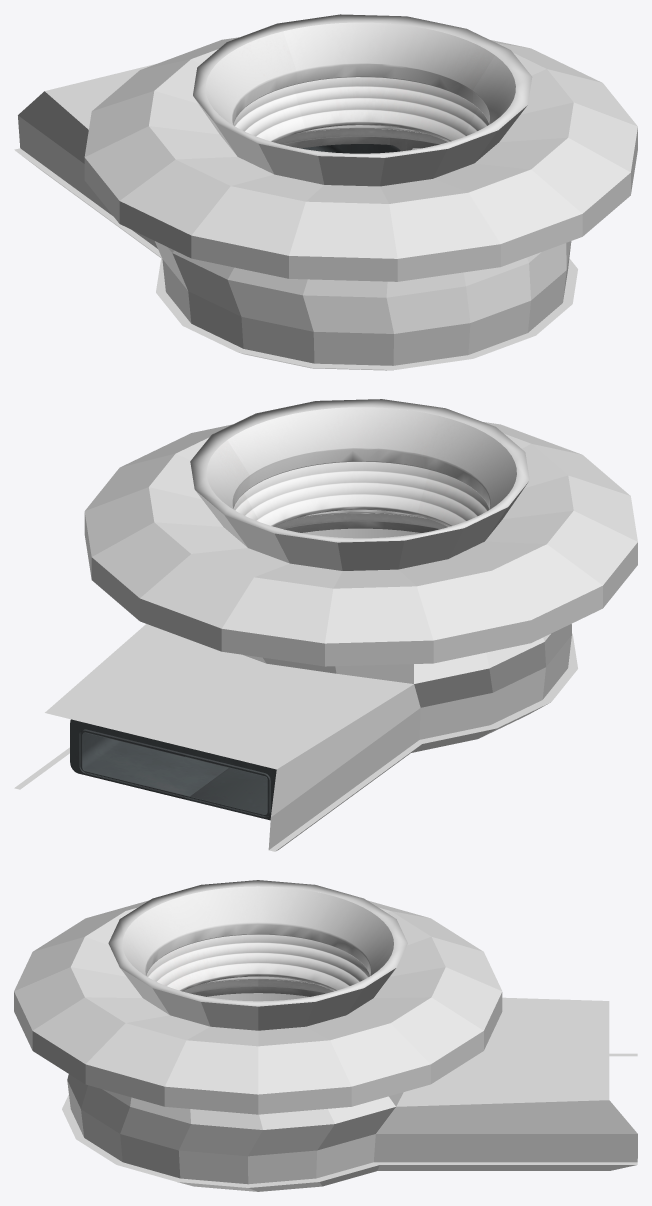
The picture shows the model from 3 angles, top to bottom: view 1: azimuth 30°, elevation 25°; view 2: azimuth 150°, elevation 25°; view 3: azimuth 270°, elevation 25°; orthographic projection. The views are drawn at different scales.
Parts seen in each view (by area): view 1: Shadowbox, Part_K, Part_F_01, Part_F_02; view 2: Shadowbox, Part_K, Part_F_02, Part_F_01, Part_Window_glass; view 3: Shadowbox, Part_K, Part_F_01, Part_Window_glass.
Boxes of the visible parts, x1,y1,x2,y2 form: Shadowbox: [14, 14, 637, 370]; Part_K: [205, 22, 515, 142]; Part_F_01: [274, 128, 447, 151]; Part_F_02: [301, 144, 400, 153]; Shadowbox: [14, 399, 637, 851]; Part_K: [206, 407, 516, 526]; Part_F_02: [70, 719, 276, 820]; Part_F_01: [274, 513, 447, 532]; Part_Window_glass: [302, 528, 421, 538]; Shadowbox: [14, 880, 637, 1191]; Part_K: [122, 886, 393, 991]; Part_F_01: [182, 979, 333, 996]; Part_Window_glass: [207, 993, 308, 1001].
Size of the model in its own units: 37.78 by 15.2 by 48.26.
8 materials, 5 textured.
